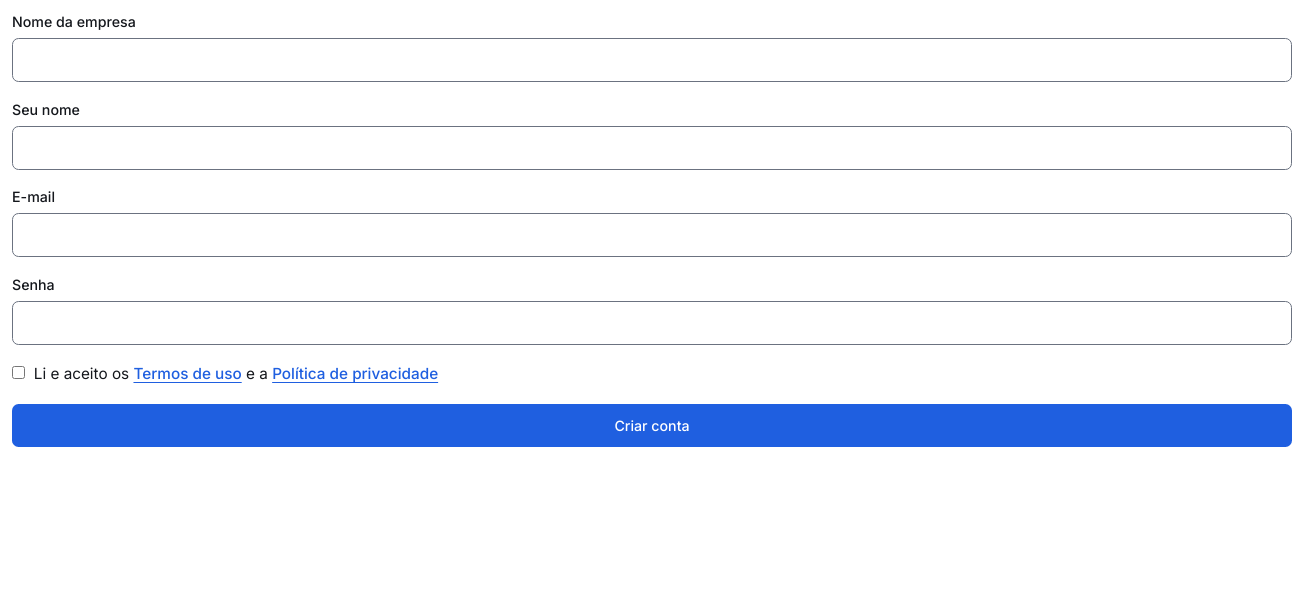
Test: FormularioCadastro › exige todos os campos e o aceite dos termos
Click the button "Criar conta" at (652, 426), box [12, 404, 1292, 447]
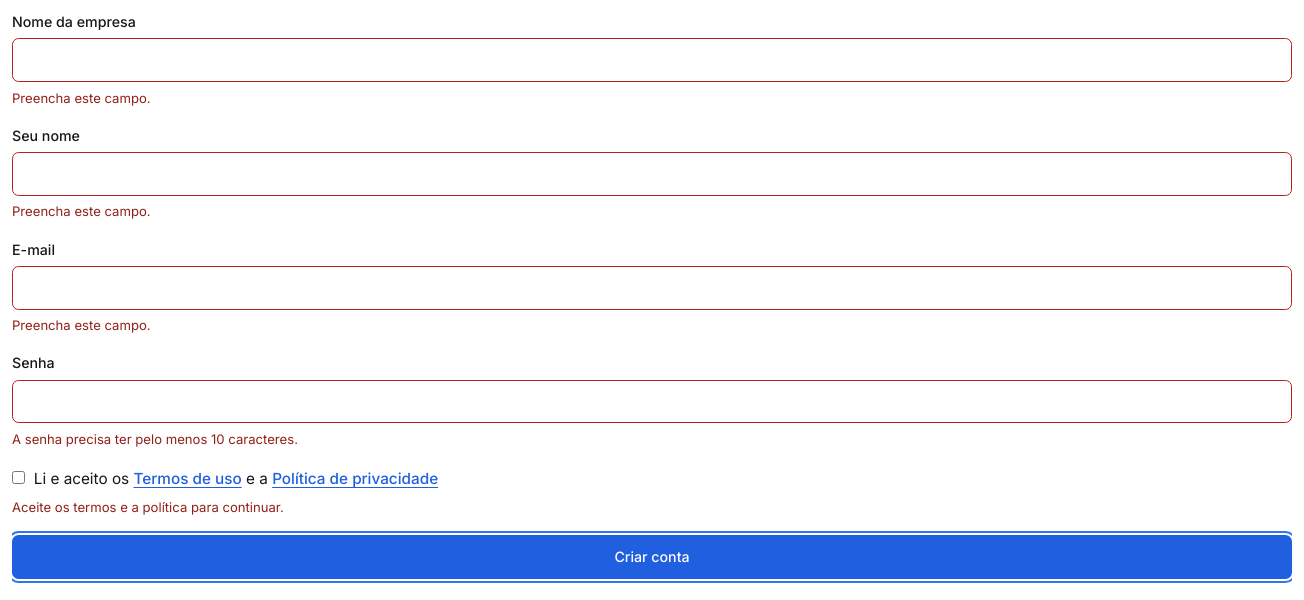
expect the text "Aceite os termos e a política para continuar." is shown: met, box [12, 499, 284, 515]
